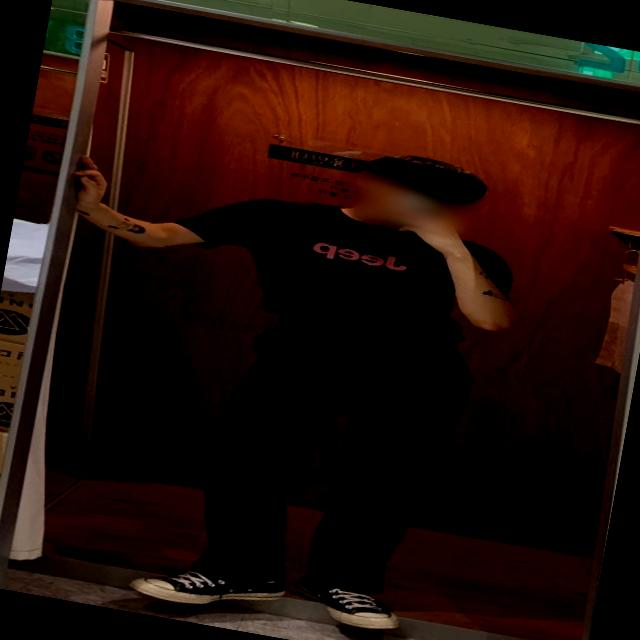denimpants: (180, 298, 482, 616)
shortsleeve: (171, 183, 524, 362)
